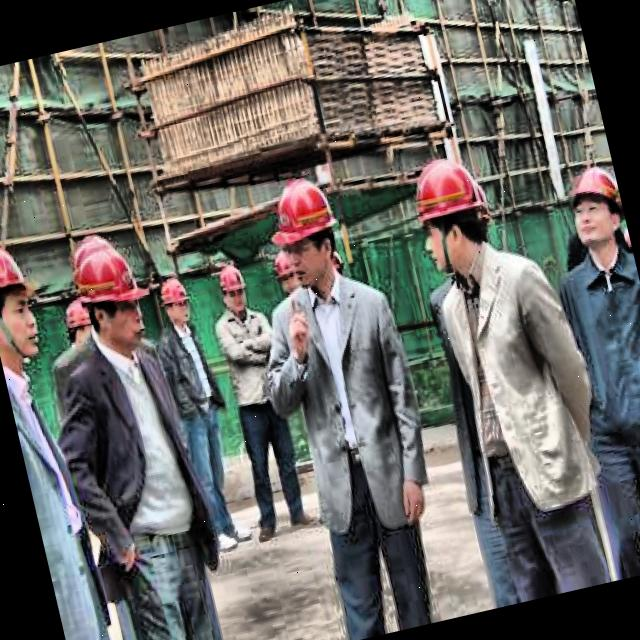helmet: (403, 150, 501, 284), (58, 223, 155, 354), (266, 172, 350, 292), (559, 163, 631, 264), (0, 230, 51, 356), (212, 252, 258, 316), (156, 268, 200, 330)
